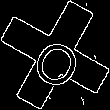O_NE: (23, 22, 87, 88)
